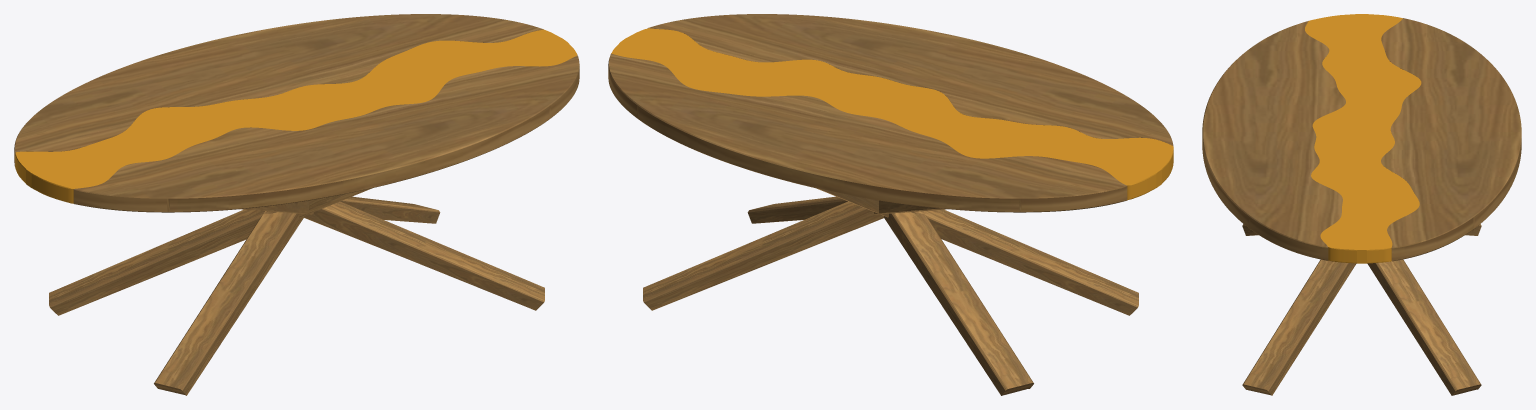
The model's file is ellipse-elm-epoxy-amber.glb.
The picture shows the model from 3 angles, left to right: view 1: azimuth 30°, elevation 25°; view 2: azimuth 150°, elevation 25°; view 3: azimuth 270°, elevation 25°; orthographic projection. The views are drawn at different scales.
Parts seen in each view (by area): view 1: Wood_Ellipse_EpoxyFar, Wood_Ellipse_EpoxyNear, Base_Ellipse, Resin_Ellipse; view 2: Wood_Ellipse_EpoxyNear, Wood_Ellipse_EpoxyFar, Base_Ellipse, Resin_Ellipse; view 3: Wood_Ellipse_EpoxyNear, Wood_Ellipse_EpoxyFar, Resin_Ellipse, Base_Ellipse.
Part boxes in pixels (<box>): Wood_Ellipse_EpoxyFar: <box>73,55,579,212</box>; Wood_Ellipse_EpoxyNear: <box>14,14,543,166</box>; Base_Ellipse: <box>49,188,544,395</box>; Resin_Ellipse: <box>15,29,577,203</box>; Wood_Ellipse_EpoxyNear: <box>608,53,1127,212</box>; Wood_Ellipse_EpoxyFar: <box>647,14,1173,145</box>; Base_Ellipse: <box>643,188,1138,395</box>; Resin_Ellipse: <box>611,28,1173,200</box>; Wood_Ellipse_EpoxyNear: <box>1381,18,1521,261</box>; Wood_Ellipse_EpoxyFar: <box>1202,21,1345,260</box>; Resin_Ellipse: <box>1305,14,1421,263</box>; Base_Ellipse: <box>1242,224,1481,395</box>.
Bounding box in the file's own units: 2.13 × 0.762 × 1.22.
2 materials, 1 textured.
